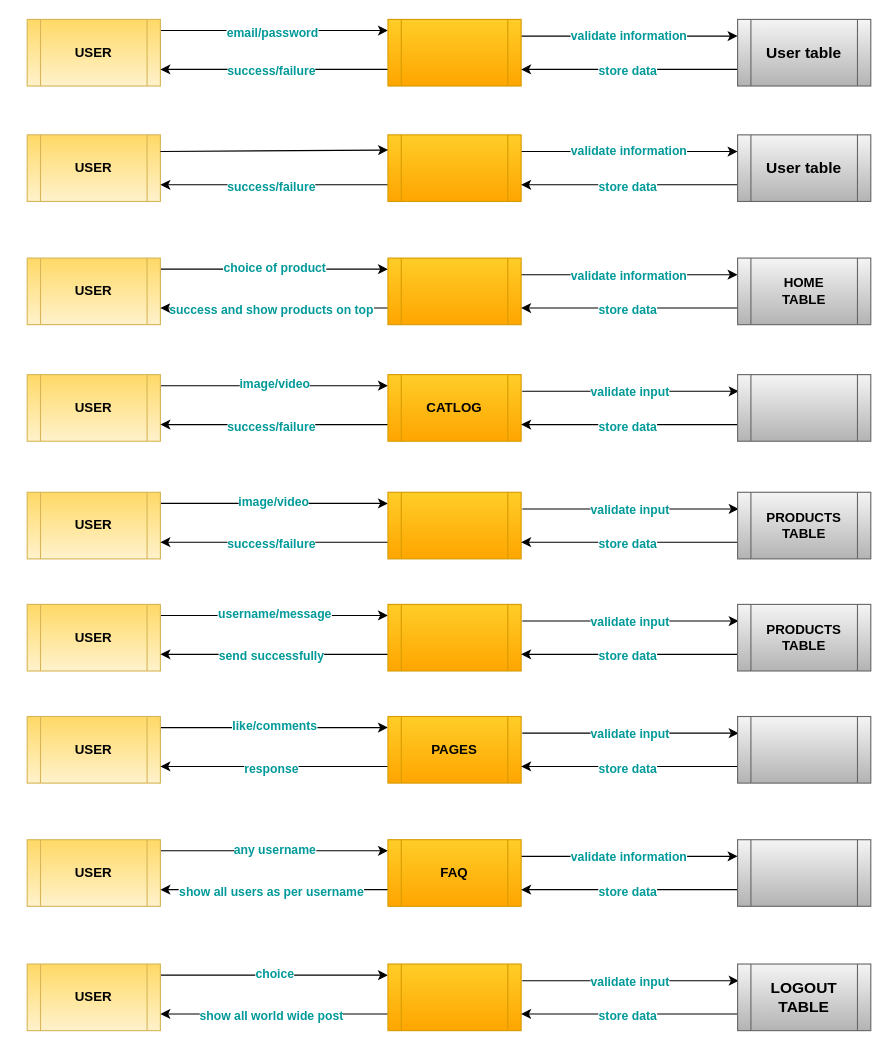
Image size: 890x1050. Some labels were removed from this diagram. The shapes that lost their labels are listed below. From the top down, each one's box as (x1, y1, x2, y2) in pixels, then its label:
(387, 18, 521, 86): Registration
(387, 134, 521, 201): Login
(387, 257, 521, 325): HOME
(736, 374, 871, 441): CATLOG TABLE
(387, 491, 521, 559): NEW PRODUCTS
(387, 603, 521, 671): PRODUCTS
(736, 715, 871, 783): PAGE TABLE
(736, 839, 871, 906): FAQ TABLE
(387, 963, 521, 1031): LOGOUT
